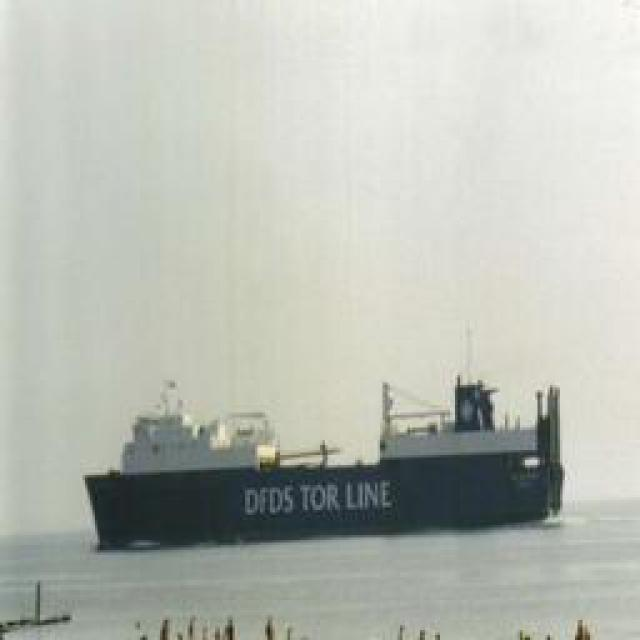Ship: (71, 382, 579, 554)
